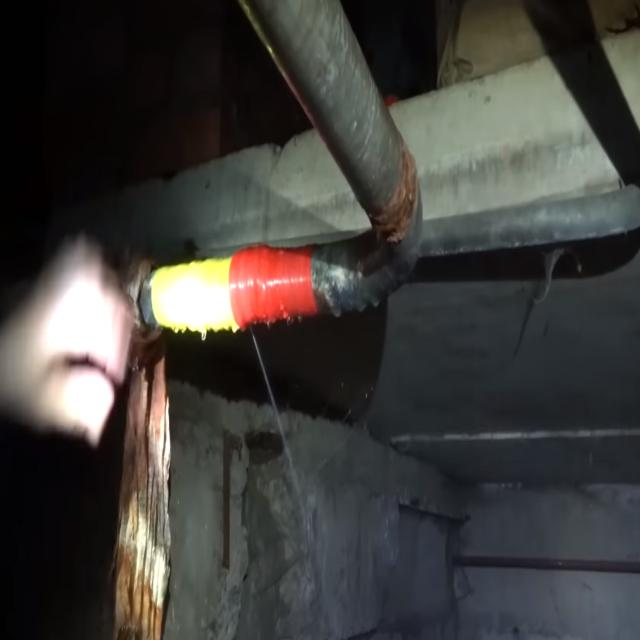leak: (250, 326, 300, 497)
